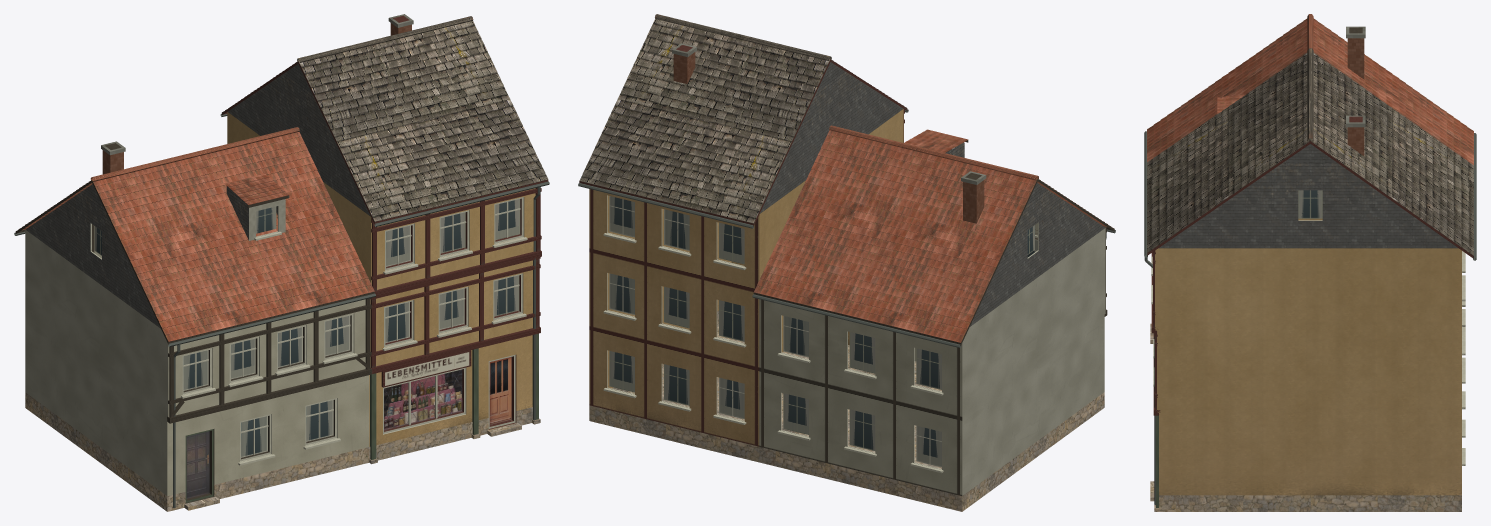
The model's file is harz_fachwerk_pair_v12_2048.gltf.
The picture shows the model from 3 angles, left to right: view 1: azimuth 30°, elevation 25°; view 2: azimuth 150°, elevation 25°; view 3: azimuth 270°, elevation 25°; orthographic projection. The views are drawn at different scales.
Visible parts, largest first — view 1: fachwerk_row_houses; view 2: fachwerk_row_houses; view 3: fachwerk_row_houses.
Boxes of the visible parts, x1,y1,x2,y2 form: fachwerk_row_houses: (14,14,549,511); fachwerk_row_houses: (578,14,1115,511); fachwerk_row_houses: (1144,14,1476,511).
Size of the model in its own units: 13.92 by 12.32 by 9.88.
1 material, 1 textured.
